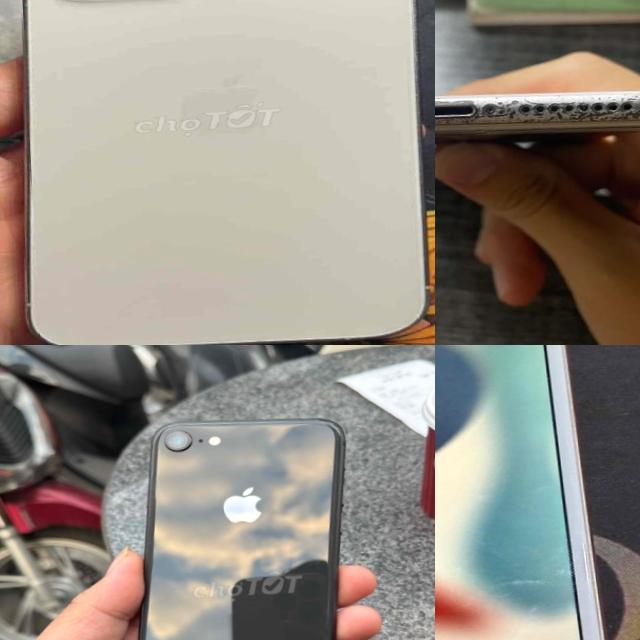scratch: (468, 564, 586, 640), (505, 86, 586, 126), (435, 90, 505, 127), (584, 84, 640, 127)
